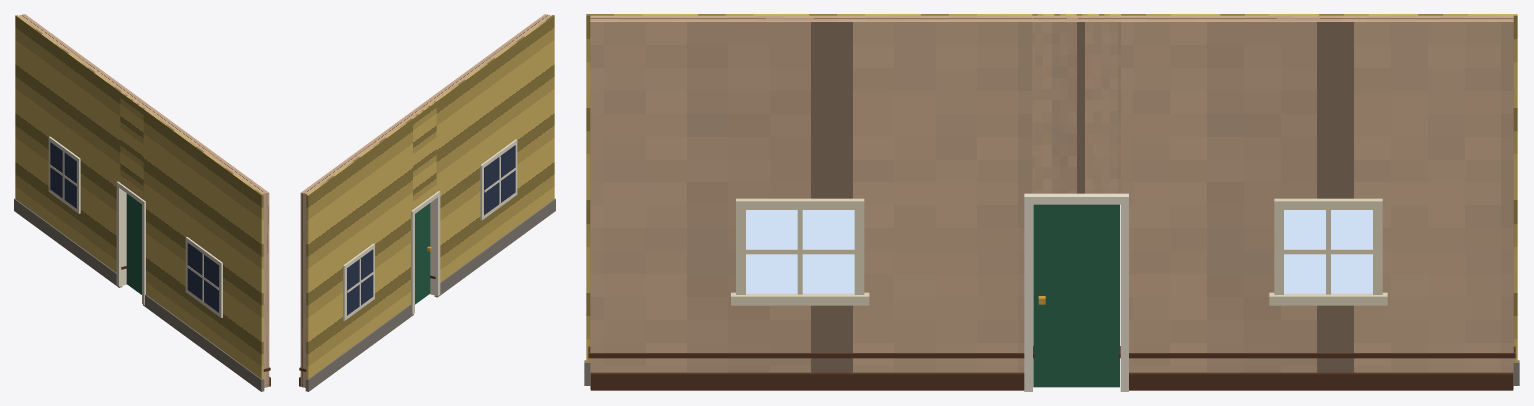
The model's file is left.glb.
3 views of the same model, side by side, from view 1: azimuth 30°, elevation 25°; view 2: azimuth 150°, elevation 25°; view 3: azimuth 270°, elevation 25° (orthographic). The views are drawn at different scales.
Visible parts, largest first — view 1: Box8, Box6, Box10, Box3, Box9, Box18, Box14, Box7, Box29, Box11, Box1, Box17 (+2 smaller); view 2: Box8, Box6, Box10, Box1, Box9, Box7, Box14, Box18, Box29, Box12, Box3, Box17 (+2 smaller); view 3: Box3, Box1, Box14, Box5, Box25, Box4, Box2, Box36, Box42, Box8, Box6, Box40 (+11 smaller).
Boxes of the visible parts, bbox=[...] form: Box8: bbox=[143, 109, 263, 378]; Box6: bbox=[15, 15, 121, 287]; Box10: bbox=[120, 91, 145, 199]; Box3: bbox=[146, 107, 269, 387]; Box9: bbox=[143, 294, 264, 391]; Box18: bbox=[187, 243, 219, 312]; Box14: bbox=[126, 193, 141, 294]; Box7: bbox=[14, 198, 122, 287]; Box29: bbox=[50, 142, 76, 208]; Box11: bbox=[116, 181, 126, 286]; Box1: bbox=[19, 14, 128, 91]; Box17: bbox=[185, 237, 222, 317]; Box8: bbox=[435, 15, 554, 296]; Box6: bbox=[306, 118, 412, 378]; Box10: bbox=[411, 101, 436, 209]; Box1: bbox=[300, 116, 410, 387]; Box9: bbox=[434, 198, 555, 297]; Box7: bbox=[305, 304, 413, 391]; Box14: bbox=[415, 203, 430, 304]; Box18: bbox=[484, 145, 515, 215]; Box29: bbox=[347, 249, 373, 315]; Box12: bbox=[430, 191, 440, 295]; Box3: bbox=[428, 14, 550, 100]; Box17: bbox=[480, 139, 517, 220]; Box3: bbox=[590, 15, 1032, 388]; Box1: bbox=[1121, 15, 1513, 388]; Box14: bbox=[1033, 204, 1119, 387]; Box5: bbox=[1032, 15, 1120, 193]; Box25: bbox=[746, 210, 854, 293]; Box4: bbox=[590, 372, 1024, 390]; Box2: bbox=[1129, 372, 1513, 390]; Box36: bbox=[1284, 210, 1372, 293]; Box42: bbox=[588, 346, 1034, 358]; Box8: bbox=[586, 14, 1032, 362]; Box6: bbox=[1121, 14, 1517, 362]; Box40: bbox=[1119, 346, 1515, 358].
Size of the model in its own units: 0.338 by 4.14 by 9.47.
10 materials, 2 textured.
